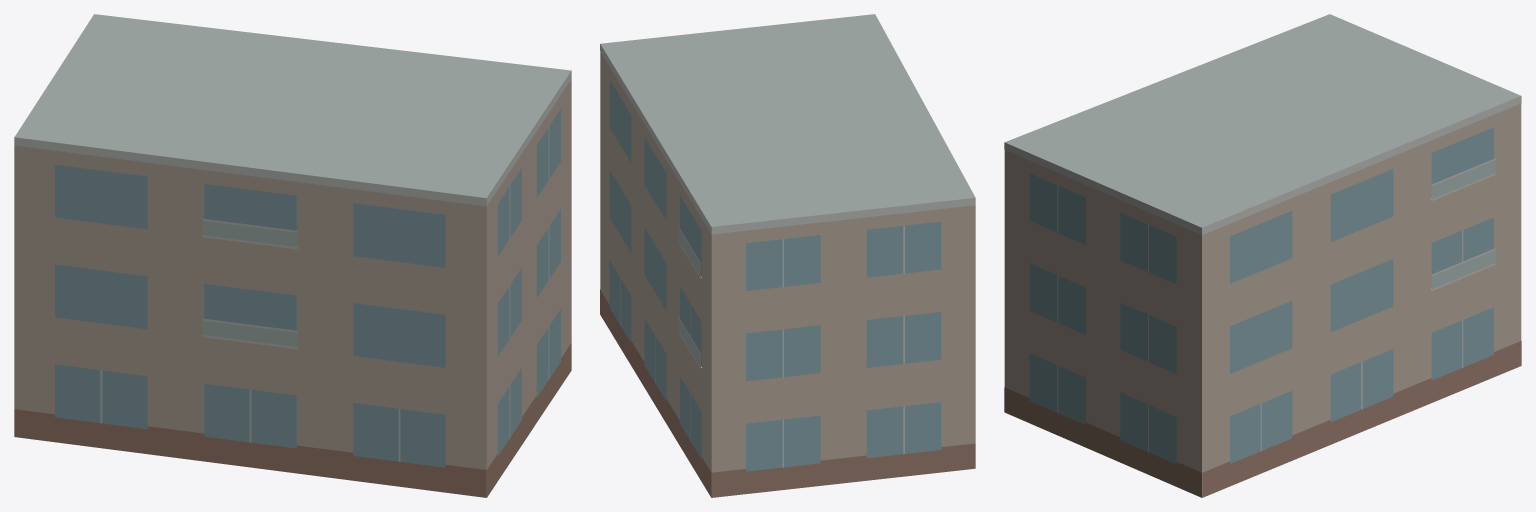
File: survey-upis-32927271.glb
3 renders of one model, left to right at view 1: azimuth 30°, elevation 25°; view 2: azimuth 150°, elevation 25°; view 3: azimuth 270°, elevation 25°, orthographic. The views are drawn at different scales.
Visible parts, largest first — view 1: survey-upis-32927271.tmp; view 2: survey-upis-32927271.tmp; view 3: survey-upis-32927271.tmp.
Part boxes in pixels (x1=…): survey-upis-32927271.tmp: x1=14, y1=14, x2=571, y2=497; survey-upis-32927271.tmp: x1=600, y1=14, x2=975, y2=497; survey-upis-32927271.tmp: x1=1004, y1=14, x2=1521, y2=497.
Size of the model in its own units: 15.12 by 8.9 by 15.45.
